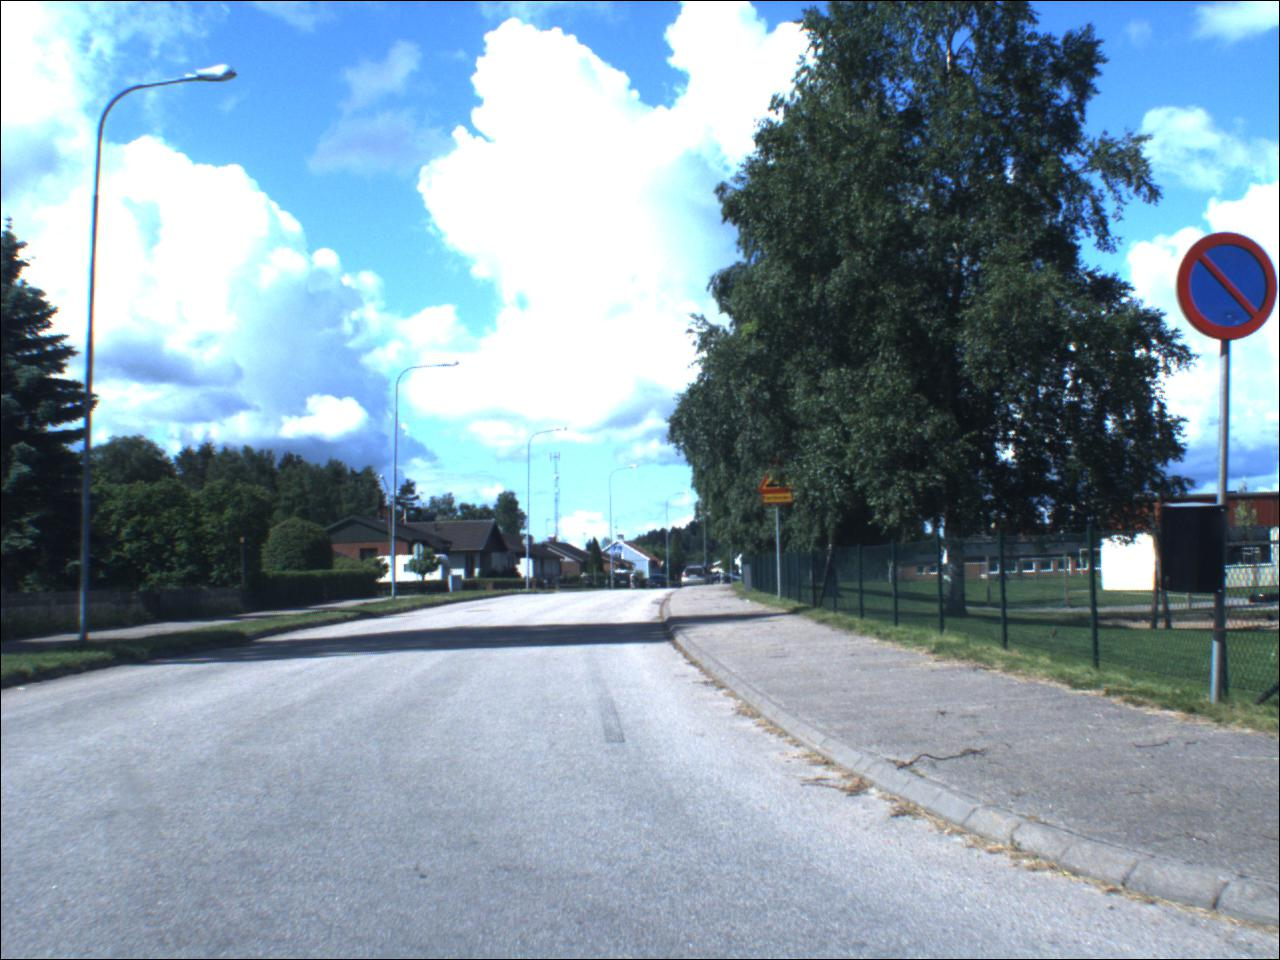NO_PARKING: (1175, 233, 1279, 341)
WARNING_BAD_ROAD: (759, 463, 797, 495)
